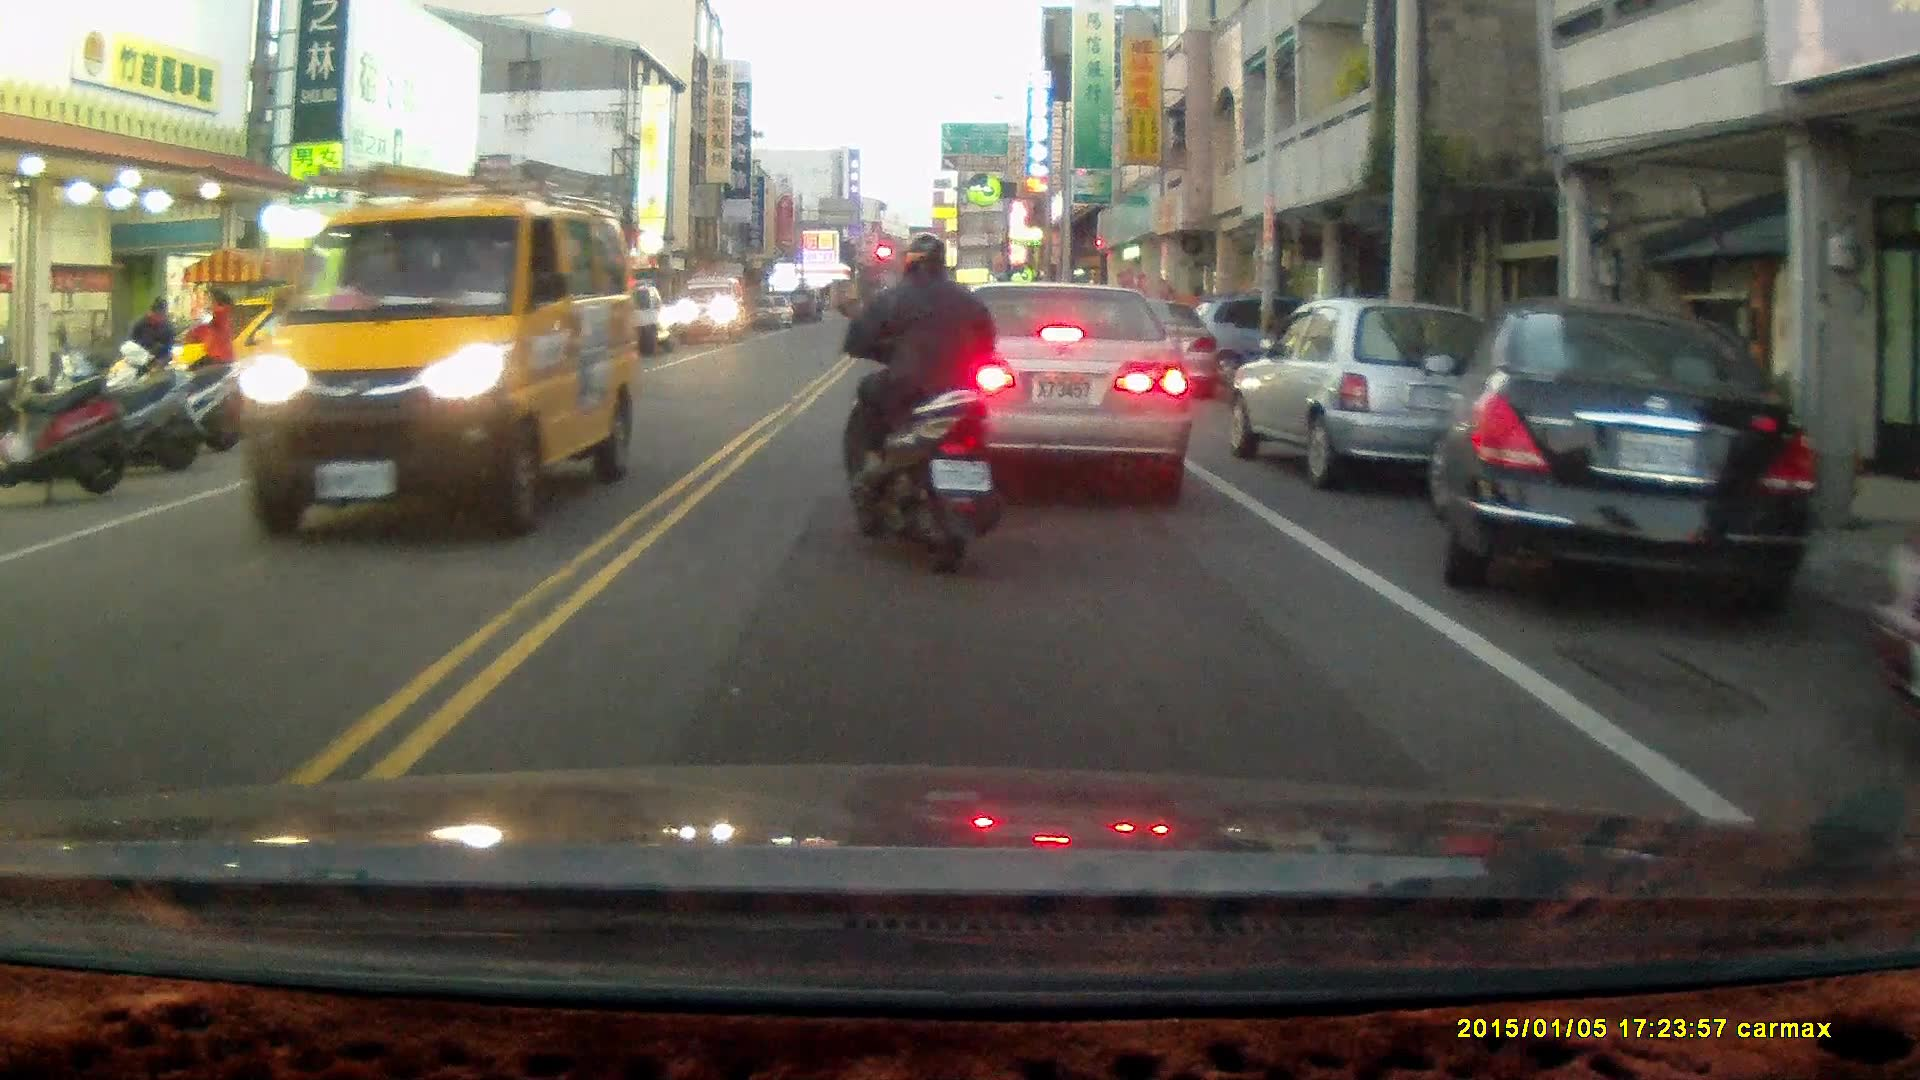pedestrian: (127, 296, 177, 405)
rider: (838, 224, 1015, 574), (153, 285, 276, 443)
vehicle: (233, 158, 648, 546), (1419, 298, 1820, 625), (923, 280, 1197, 498), (1232, 297, 1483, 488), (681, 268, 754, 339)
